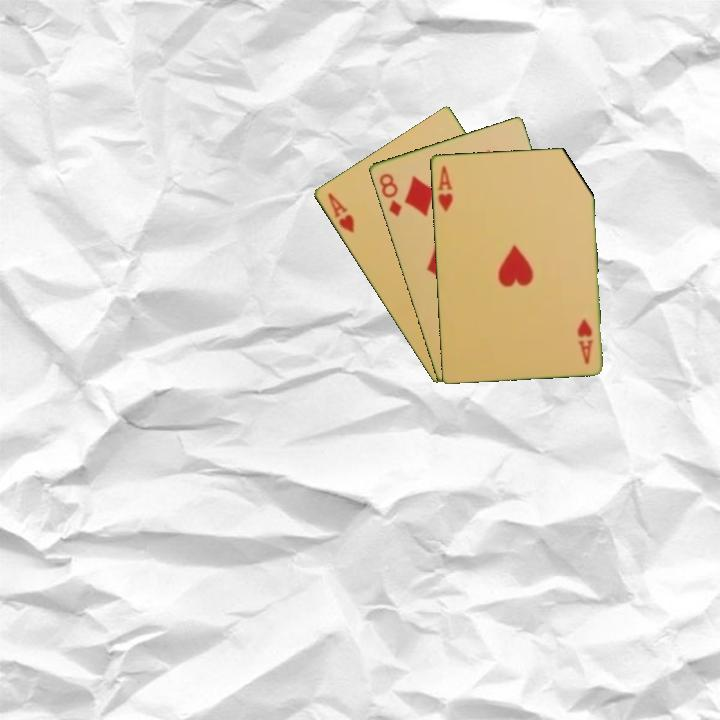8d: (375, 170, 405, 219)
Ah: (324, 189, 357, 236), (574, 315, 596, 366), (434, 162, 455, 215)
